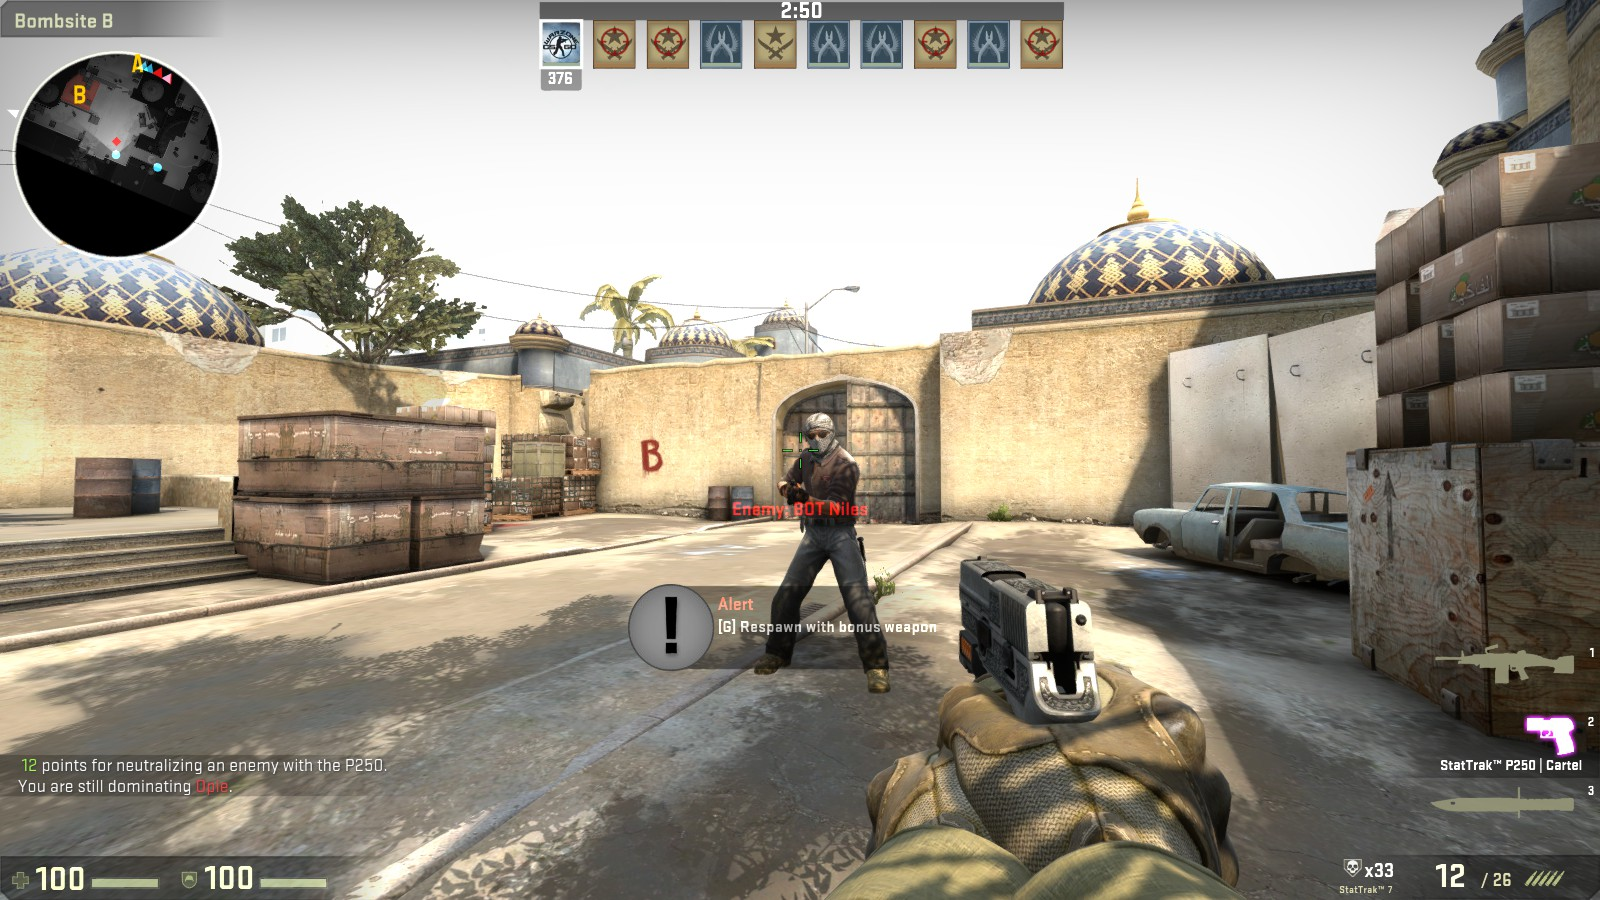t: (760, 405, 907, 688)
th: (799, 409, 844, 460)
